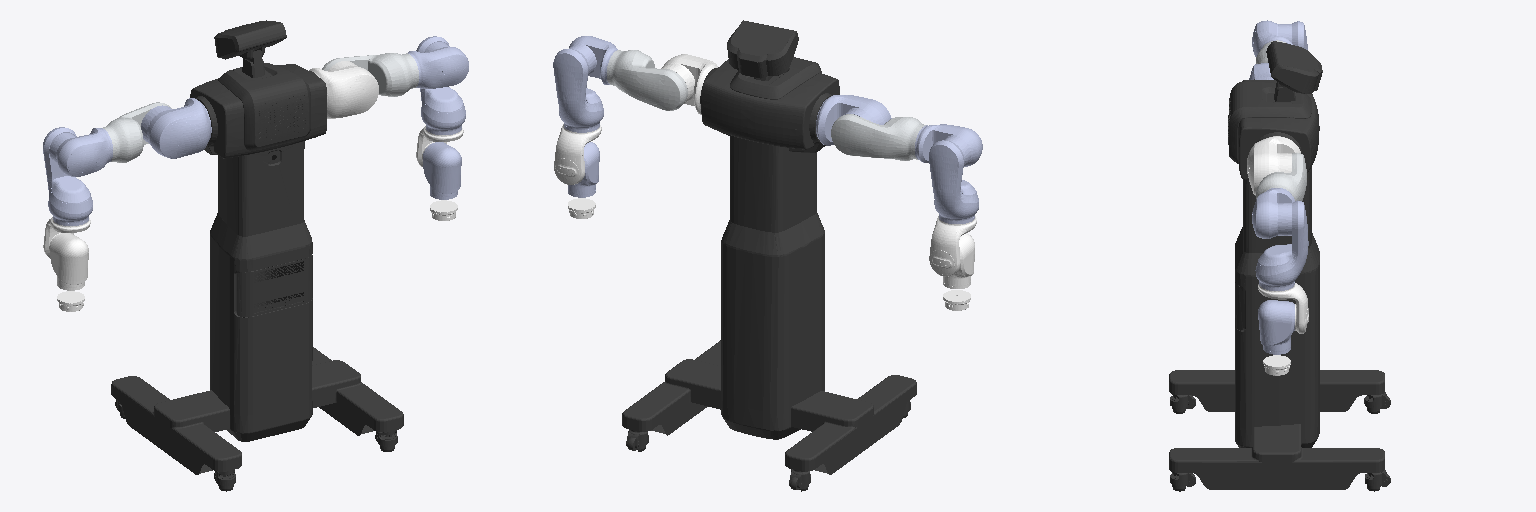
robot.urdf — dscr5_6:
<?xml version="1.0" encoding="utf-8"?>
<!-- This URDF was automatically created by SolidWorks to URDF Exporter! Originally created by [author] ([email redacted]) 
     Commit Version: 1.6.0-1-g15f4949  Build Version: 1.6.7594.29634
     For more information, please see http://wiki.ros.org/sw_urdf_exporter -->
<robot
  name="dscr5_6">
  <link
    name="base_link">
    <inertial>
      <origin
        xyz="-2.33471583537977E-06 -0.00662907239788245 1.33004670421342"
        rpy="0 0 0" />
      <mass
        value="25.8577669048994" />
      <inertia
        ixx="0.267014137924139"
        ixy="-1.36584455425003E-05"
        ixz="-4.2469044271823E-07"
        iyy="0.472244407235779"
        iyz="-5.34065558451017E-05"
        izz="0.549554614712028" />
    </inertial>
    <visual>
      <origin
        xyz="0 0 0"
        rpy="0 0 0" />
      <geometry>
        <mesh
          filename="package://Dsc5/meshes/base_link.STL" />
      </geometry>
      <material
        name="">
        <color
          rgba="0.298039215686275 0.298039215686275 0.298039215686275 1" />
      </material>
    </visual>
    <collision>
      <origin
        xyz="0 0 0"
        rpy="0 0 0" />
      <geometry>
        <mesh
          filename="package://Dsc5/meshes/base_link.STL" />
      </geometry>
    </collision>
  </link>
  <link
    name="rlink1">
    <inertial>
      <origin
        xyz="-3.48537472660837E-07 -0.0233818482234878 -0.0427896937411072"
        rpy="0 0 0" />
      <mass
        value="4.9503936266377" />
      <inertia
        ixx="0.0280328872192691"
        ixy="-1.0942187488335E-08"
        ixz="8.01870940106082E-08"
        iyy="0.0290016533494644"
        iyz="0.00182600668247838"
        izz="0.0175058159650953" />
    </inertial>
    <visual>
      <origin
        xyz="0 0 0"
        rpy="0 0 0" />
      <geometry>
        <mesh
          filename="package://Dsc5/meshes/rlink1.STL" />
      </geometry>
      <material
        name="">
        <color
          rgba="1 1 1 1" />
      </material>
    </visual>
    <collision>
      <origin
        xyz="0 0 0"
        rpy="0 0 0" />
      <geometry>
        <mesh
          filename="package://Dsc5/meshes/rlink1.STL" />
      </geometry>
    </collision>
  </link>
  <joint
    name="rjoint1"
    type="revolute">
    <origin
      xyz="0.385 0 1.33"
      rpy="0 1.5708 0" />
    <parent
      link="base_link" />
    <child
      link="rlink1" />
    <axis
      xyz="0 0 1" />
    <limit
      lower="-3.14"
      upper="3.14"
      effort="60"
      velocity="2.088" />
  </joint>
  <link
    name="rlink2">
    <inertial>
      <origin
        xyz="8.53027319225319E-07 -0.132185395312596 -0.0316164146761528"
        rpy="0 0 0" />
      <mass
        value="3.79795466425453" />
      <inertia
        ixx="0.0345043951838881"
        ixy="-6.83453568770041E-07"
        ixz="3.61629286229262E-08"
        iyy="0.0138915011944337"
        iyz="0.00967376859925764"
        izz="0.0312407355826189" />
    </inertial>
    <visual>
      <origin
        xyz="0 0 0"
        rpy="0 0 0" />
      <geometry>
        <mesh
          filename="package://Dsc5/meshes/rlink2.STL" />
      </geometry>
      <material
        name="">
        <color
          rgba="0.898039215686275 0.913725490196078 0.925490196078431 1" />
      </material>
    </visual>
    <collision>
      <origin
        xyz="0 0 0"
        rpy="0 0 0" />
      <geometry>
        <mesh
          filename="package://Dsc5/meshes/rlink2.STL" />
      </geometry>
    </collision>
  </link>
  <joint
    name="rjoint2"
    type="revolute">
    <origin
      xyz="0 0 0"
      rpy="-1.5708 0 3.1416" />
    <parent
      link="rlink1" />
    <child
      link="rlink2" />
    <axis
      xyz="0 0 1" />
    <limit
      lower="-1.827"
      upper="1.827"
      effort="60"
      velocity="2.088" />
  </joint>
  <link
    name="rlink3">
    <inertial>
      <origin
        xyz="-8.01697919161626E-07 -0.0193078273568117 -0.0351761512008308"
        rpy="0 0 0" />
      <mass
        value="2.90590329386609" />
      <inertia
        ixx="0.012506710918385"
        ixy="-3.18829086332697E-08"
        ixz="1.61628680644383E-07"
        iyy="0.0126795925744411"
        iyz="0.000667419670602496"
        izz="0.00682395851939506" />
    </inertial>
    <visual>
      <origin
        xyz="0 0 0"
        rpy="0 0 0" />
      <geometry>
        <mesh
          filename="package://Dsc5/meshes/rlink3.STL" />
      </geometry>
      <material
        name="">
        <color
          rgba="0.792156862745098 0.819607843137255 0.933333333333333 1" />
      </material>
    </visual>
    <collision>
      <origin
        xyz="0 0 0"
        rpy="0 0 0" />
      <geometry>
        <mesh
          filename="package://Dsc5/meshes/rlink3.STL" />
      </geometry>
    </collision>
  </link>
  <joint
    name="rjoint3"
    type="revolute">
    <origin
      xyz="0 -0.4 0"
      rpy="-1.5708 0 3.1416" />
    <parent
      link="rlink2" />
    <child
      link="rlink3" />
    <axis
      xyz="0 0 1" />
    <limit
      lower="-3.14"
      upper="3.14"
      effort="60"
      velocity="3.14" />
  </joint>
  <link
    name="rlink4">
    <inertial>
      <origin
        xyz="-0.144257090671159 -9.85621058857689E-06 -0.0330829693859012"
        rpy="0 0 0" />
      <mass
        value="3.62743871363849" />
      <inertia
        ixx="0.0129758721943285"
        ixy="-2.58330084453541E-06"
        ixz="0.0089132335031844"
        iyy="0.0321838755377905"
        iyz="2.55052560667335E-08"
        izz="0.0283162014026305" />
    </inertial>
    <visual>
      <origin
        xyz="0 0 0"
        rpy="0 0 0" />
      <geometry>
        <mesh
          filename="package://Dsc5/meshes/rlink4.STL" />
      </geometry>
      <material
        name="">
        <color
          rgba="0.792156862745098 0.819607843137255 0.933333333333333 1" />
      </material>
    </visual>
    <collision>
      <origin
        xyz="0 0 0"
        rpy="0 0 0" />
      <geometry>
        <mesh
          filename="package://Dsc5/meshes/rlink4.STL" />
      </geometry>
    </collision>
  </link>
  <joint
    name="rjoint4"
    type="revolute">
    <origin
      xyz="0 0 0"
      rpy="-1.5708 0 3.1416" />
    <parent
      link="rlink3" />
    <child
      link="rlink4" />
    <axis
      xyz="0 0 -1" />
    <limit
      lower="-1.8"
      upper="1.8"
      effort="60"
      velocity="1.57" />
  </joint>
  <link
    name="rlink5">
    <inertial>
      <origin
        xyz="5.73325782216028E-06 0.0539256625097546 -0.0673965611550317"
        rpy="0 0 0" />
      <mass
        value="1.22777453272549" />
      <inertia
        ixx="0.00671987251306287"
        ixy="-1.7302687479737E-07"
        ixz="-4.00366572180475E-07"
        iyy="0.00522041312928112"
        iyz="-0.0023320996856893"
        izz="0.00406763138318156" />
    </inertial>
    <visual>
      <origin
        xyz="0 0 0"
        rpy="0 0 0" />
      <geometry>
        <mesh
          filename="package://Dsc5/meshes/rlink5.STL" />
      </geometry>
      <material
        name="">
        <color
          rgba="1 1 1 1" />
      </material>
    </visual>
    <collision>
      <origin
        xyz="0 0 0"
        rpy="0 0 0" />
      <geometry>
        <mesh
          filename="package://Dsc5/meshes/rlink5.STL" />
      </geometry>
    </collision>
  </link>
  <joint
    name="rjoint5"
    type="revolute">
    <origin
      xyz="-0.4 0 0"
      rpy="-1.5708 0 1.5708" />
    <parent
      link="rlink4" />
    <child
      link="rlink5" />
    <axis
      xyz="0 0 -1" />
    <limit
      lower="-3.14"
      upper="3.14"
      effort="60"
      velocity="3.14" />
  </joint>
  <link
    name="rlink6">
    <inertial>
      <origin
        xyz="-3.6069089082158E-07 -0.0302648113567473 -0.000654424356794522"
        rpy="0 0 0" />
      <mass
        value="2.18349168254272" />
      <inertia
        ixx="0.0071110582460742"
        ixy="-1.28155589668657E-08"
        ixz="2.0793851567459E-08"
        iyy="0.00436647605709646"
        iyz="0.000217056908270871"
        izz="0.00649083623519741" />
    </inertial>
    <visual>
      <origin
        xyz="0 0 0"
        rpy="0 0 0" />
      <geometry>
        <mesh
          filename="package://Dsc5/meshes/rlink6.STL" />
      </geometry>
      <material
        name="">
        <color
          rgba="0.792156862745098 0.819607843137255 0.933333333333333 1" />
      </material>
    </visual>
    <collision>
      <origin
        xyz="0 0 0"
        rpy="0 0 0" />
      <geometry>
        <mesh
          filename="package://Dsc5/meshes/rlink6.STL" />
      </geometry>
    </collision>
  </link>
  <joint
    name="rjoint6"
    type="revolute">
    <origin
      xyz="0 0 0"
      rpy="-1.5708 0 -3.1416" />
    <parent
      link="rlink5" />
    <child
      link="rlink6" />
    <axis
      xyz="0 0 1" />
    <limit
      lower="-1.914"
      upper="1.914"
      effort="60"
      velocity="3.14" />
  </joint>
  <link
    name="rlink7">
    <inertial>
      <origin
        xyz="-1.6115772992098E-05 -0.000141462244165972 -0.031877389713026"
        rpy="0 0 0" />
      <mass
        value="0.289031984022191" />
      <inertia
        ixx="0.000202802134225507"
        ixy="2.0837505013452E-10"
        ixz="1.07324494570627E-07"
        iyy="0.000203587280513312"
        iyz="1.58994797887414E-07"
        izz="0.000316585846451796" />
    </inertial>
    <visual>
      <origin
        xyz="0 0 -0.12"
        rpy="0 0 0" />
      <geometry>
        <mesh
          filename="package://Dsc5/meshes/rlink7.STL" />
      </geometry>
      <material
        name="">
        <color
          rgba="1 1 1 1" />
      </material>
    </visual>
    <collision>
      <origin
        xyz="0 0 0"
        rpy="0 0 0" />
      <geometry>
        <mesh
          filename="package://Dsc5/meshes/rlink7.STL" />
      </geometry>
    </collision>
  </link>
  <joint
    name="rjoint7"
    type="revolute">
    <origin
      xyz="0 -0.35 0"
      rpy="1.5708 0 0" />
    <parent
      link="rlink6" />
    <child
      link="rlink7" />
    <axis
      xyz="0 0 -1" />
    <limit
      lower="-3.14"
      upper="3.14"
      effort="60"
      velocity="3.14" />
  </joint>
  <link
    name="llink1">
    <inertial>
      <origin
        xyz="-3.48534555216773E-07 -0.0233818482203476 -0.0427896937411069"
        rpy="0 0 0" />
      <mass
        value="4.95039362663772" />
      <inertia
        ixx="0.0280328872192692"
        ixy="-1.09421874361309E-08"
        ixz="8.0187093968398E-08"
        iyy="0.0290016533494645"
        iyz="0.00182600668247842"
        izz="0.0175058159650954" />
    </inertial>
    <visual>
      <origin
        xyz="0 0 0"
        rpy="0 0 0" />
      <geometry>
        <mesh
          filename="package://Dsc5/meshes/llink1.STL" />
      </geometry>
      <material
        name="">
        <color
          rgba="0.792156862745098 0.819607843137255 0.933333333333333 1" />
      </material>
    </visual>
    <collision>
      <origin
        xyz="0 0 0"
        rpy="0 0 0" />
      <geometry>
        <mesh
          filename="package://Dsc5/meshes/llink1.STL" />
      </geometry>
    </collision>
  </link>
  <joint
    name="ljoint1"
    type="revolute">
    <origin
      xyz="-0.385 0 1.33"
      rpy="0 -1.5708 0" />
    <parent
      link="base_link" />
    <child
      link="llink1" />
    <axis
      xyz="0 0 -1" />
    <limit
      lower="-3.14"
      upper="3.14"
      effort="60"
      velocity="2.088" />
  </joint>
  <link
    name="llink2">
    <inertial>
      <origin
        xyz="8.57088727768129E-07 -0.13218539479818 -0.0316164152507732"
        rpy="0 0 0" />
      <mass
        value="3.79795439943558" />
      <inertia
        ixx="0.0345043950633951"
        ixy="-6.831545078089E-07"
        ixz="3.59263239475119E-08"
        iyy="0.0138915001045365"
        iyz="0.00967376854022875"
        izz="0.0312407342738061" />
    </inertial>
    <visual>
      <origin
        xyz="0 0 0"
        rpy="0 0 0" />
      <geometry>
        <mesh
          filename="package://Dsc5/meshes/llink2.STL" />
      </geometry>
      <material
        name="">
        <color
          rgba="0.898039215686275 0.913725490196078 0.925490196078431 1" />
      </material>
    </visual>
    <collision>
      <origin
        xyz="0 0 0"
        rpy="0 0 0" />
      <geometry>
        <mesh
          filename="package://Dsc5/meshes/llink2.STL" />
      </geometry>
    </collision>
  </link>
  <joint
    name="ljoint2"
    type="revolute">
    <origin
      xyz="0 0 0"
      rpy="-1.57 0 3.14" />
    <parent
      link="llink1" />
    <child
      link="llink2" />
    <axis
      xyz="0 0 1" />
    <limit
      lower="-1.827"
      upper="1.827"
      effort="60"
      velocity="2.088" />
  </joint>
  <link
    name="llink3">
    <inertial>
      <origin
        xyz="-8.01697918939581E-07 -0.0193078273536719 -0.035176151200831"
        rpy="0 0 0" />
      <mass
        value="2.90590329386612" />
      <inertia
        ixx="0.0125067109183852"
        ixy="-3.18829086345302E-08"
        ixz="1.61628680721092E-07"
        iyy="0.0126795925744412"
        iyz="0.000667419670602472"
        izz="0.00682395851939513" />
    </inertial>
    <visual>
      <origin
        xyz="0 0 0"
        rpy="0 0 0" />
      <geometry>
        <mesh
          filename="package://Dsc5/meshes/llink3.STL" />
      </geometry>
      <material
        name="">
        <color
          rgba="0.792156862745098 0.819607843137255 0.933333333333333 1" />
      </material>
    </visual>
    <collision>
      <origin
        xyz="0 0 0"
        rpy="0 0 0" />
      <geometry>
        <mesh
          filename="package://Dsc5/meshes/llink3.STL" />
      </geometry>
    </collision>
  </link>
  <joint
    name="ljoint3"
    type="revolute">
    <origin
      xyz="0 -0.4 0"
      rpy="-1.5708 0 3.1416" />
    <parent
      link="llink2" />
    <child
      link="llink3" />
    <axis
      xyz="0 0 -1" />
    <limit
      lower="-3.14"
      upper="3.14"
      effort="60"
      velocity="3.14" />
  </joint>
  <link
    name="llink4">
    <inertial>
      <origin
        xyz="-0.144257090671159 -9.85621058846586E-06 -0.0330829693890409"
        rpy="0 0 0" />
      <mass
        value="3.6274387136385" />
      <inertia
        ixx="0.0129758721958824"
        ixy="-2.58329914905676E-06"
        ixz="0.0089132335030002"
        iyy="0.0321838755383158"
        iyz="2.55050844185509E-08"
        izz="0.028316201404925" />
    </inertial>
    <visual>
      <origin
        xyz="0 0 0"
        rpy="0 0 3.1416" />
      <geometry>
        <mesh
          filename="package://Dsc5/meshes/llink4.STL" />
      </geometry>
      <material
        name="">
        <color
          rgba="0.792156862745098 0.819607843137255 0.933333333333333 1" />
      </material>
    </visual>
    <collision>
      <origin
        xyz="0 0 0"
        rpy="0 0 0" />
      <geometry>
        <mesh
          filename="package://Dsc5/meshes/llink4.STL" />
      </geometry>
    </collision>
  </link>
  <joint
    name="ljoint4"
    type="revolute">
    <origin
      xyz="0 0 0"
      rpy="-1.5708 0 3.1416" />
    <parent
      link="llink3" />
    <child
      link="llink4" />
    <axis
      xyz="0 0 -1" />
    <limit
      lower="-2"
      upper="2"
      effort="60"
      velocity="3.14" />
  </joint>
  <link
    name="llink5">
    <inertial>
      <origin
        xyz="5.73532288883349E-06 0.0539158105053979 -0.0673965526908485"
        rpy="0 0 0" />
      <mass
        value="1.22777421461757" />
      <inertia
        ixx="0.00671987162846365"
        ixy="-1.73133868954839E-07"
        ixz="-4.00335180443063E-07"
        iyy="0.00522041225072359"
        iyz="-0.00233209954708952"
        izz="0.00406763025471862" />
    </inertial>
    <visual>
      <origin
        xyz="0 0 0"
        rpy="0 0 0" />
      <geometry>
        <mesh
          filename="package://Dsc5/meshes/llink5.STL" />
      </geometry>
      <material
        name="">
        <color
          rgba="1 1 1 1" />
      </material>
    </visual>
    <collision>
      <origin
        xyz="0 0 0"
        rpy="0 0 0" />
      <geometry>
        <mesh
          filename="package://Dsc5/meshes/llink5.STL" />
      </geometry>
    </collision>
  </link>
  <joint
    name="ljoint5"
    type="revolute">
    <origin
      xyz="0.4 0 0"
      rpy="-1.5708 0 -1.5708" />
    <parent
      link="llink4" />
    <child
      link="llink5" />
    <axis
      xyz="0 0 1" />
    <limit
      lower="-3.14"
      upper="3.14"
      effort="60"
      velocity="3.14" />
  </joint>
  <link
    name="llink6">
    <inertial>
      <origin
        xyz="-3.60690891154647E-07 -0.0302648113567476 -0.000644568673573308"
        rpy="0 0 0" />
      <mass
        value="2.1834916825427" />
      <inertia
        ixx="0.00711105824607415"
        ixy="-1.28155589872999E-08"
        ixz="2.07938515571978E-08"
        iyy="0.00436647605709643"
        iyz="0.00021705690827092"
        izz="0.00649083623519734" />
    </inertial>
    <visual>
      <origin
        xyz="0 0 0"
        rpy="0 0 0" />
      <geometry>
        <mesh
          filename="package://Dsc5/meshes/llink6.STL" />
      </geometry>
      <material
        name="">
        <color
          rgba="1 1 1 1" />
      </material>
    </visual>
    <collision>
      <origin
        xyz="0 0 0"
        rpy="0 0 0" />
      <geometry>
        <mesh
          filename="package://Dsc5/meshes/llink6.STL" />
      </geometry>
    </collision>
  </link>
  <joint
    name="ljoint6"
    type="revolute">
    <origin
      xyz="0 0 0"
      rpy="-1.5708 0 3.1416" />
    <parent
      link="llink5" />
    <child
      link="llink6" />
    <axis
      xyz="0 0 1" />
    <limit
      lower="-1.914"
      upper="1.914"
      effort="60"
      velocity="3.14" />
  </joint>
  <link
    name="llink7">
    <inertial>
      <origin
        xyz="1.611577299232E-05 0.000131606557804023 -0.031877389713026"
        rpy="0 0 0" />
      <mass
        value="0.289031984022191" />
      <inertia
        ixx="0.000202802134225507"
        ixy="2.08375050252559E-10"
        ixz="-1.07324494570795E-07"
        iyy="0.000203587280513312"
        iyz="-1.58994797887464E-07"
        izz="0.000316585846451796" />
    </inertial>
    <visual>
      <origin
        xyz="0 0 -0.12"
        rpy="0 0 0" />
      <geometry>
        <mesh
          filename="package://Dsc5/meshes/llink7.STL" />
      </geometry>
      <material
        name="">
        <color
          rgba="1 1 1 1" />
      </material>
    </visual>
    <collision>
      <origin
        xyz="0 0 0"
        rpy="0 0 0" />
      <geometry>
        <mesh
          filename="package://Dsc5/meshes/llink7.STL" />
      </geometry>
    </collision>
  </link>
  <joint
    name="ljoint7"
    type="revolute">
    <origin
      xyz="0 -0.35 0"
      rpy="1.5708 0 0" />
    <parent
      link="llink6" />
    <child
      link="llink7" />
    <axis
      xyz="0 0 -1" />
    <limit
      lower="-3.14"
      upper="3.14"
      effort="60"
      velocity="3.14" />
  </joint>
</robot>

--- Render facts (derived) ---
The picture shows the robot from 3 angles, left to right: view 1: azimuth 30°, elevation 25°; view 2: azimuth 150°, elevation 25°; view 3: azimuth 270°, elevation 25°; orthographic projection.
Model dscr5_6 with 15 links and 14 joints (14 revolute), rooted at base_link, posed all joints at 0.
Visible links, largest first — view 1: base_link, llink1, rlink1, llink4, llink3, rlink2, rlink4, rlink3, rlink6, llink6, llink2, rlink5 (+1 smaller); view 2: base_link, llink2, rlink2, rlink4, llink4, llink1, llink3, llink5, rlink5, rlink1, rlink3, rlink6 (+1 smaller); view 3: base_link, rlink4, rlink3, rlink1, rlink6, rlink2, rlink5, llink3.
Link boxes in pixels (x1,y1,x2,y2): base_link: (111, 20, 403, 491); llink1: (141, 98, 211, 158); rlink1: (309, 61, 378, 118); llink4: (43, 127, 92, 225); llink3: (49, 128, 112, 176); rlink2: (322, 53, 418, 96); rlink4: (416, 36, 465, 134); rlink3: (408, 42, 468, 88); rlink6: (423, 142, 461, 199); llink6: (50, 233, 88, 290); llink2: (103, 102, 171, 162); rlink5: (416, 126, 463, 166); base_link: (622, 20, 916, 491); llink2: (831, 114, 925, 160); rlink2: (607, 50, 687, 110); rlink4: (553, 49, 603, 132); llink4: (929, 140, 978, 223); llink1: (816, 95, 891, 145); llink3: (915, 124, 982, 166); llink5: (929, 216, 976, 276); rlink5: (554, 124, 601, 184); rlink1: (661, 54, 717, 114); rlink3: (569, 36, 617, 84); rlink6: (568, 142, 599, 197); base_link: (1169, 41, 1390, 491); rlink4: (1255, 200, 1308, 290); rlink3: (1252, 188, 1294, 238); rlink1: (1247, 136, 1300, 194); rlink6: (1258, 300, 1294, 354); rlink2: (1255, 153, 1306, 200); rlink5: (1258, 283, 1308, 333); llink3: (1252, 20, 1292, 56).
Bounding box of the posed robot: 1.73 × 0.8215 × 1.62 m (x, y, z).
Meshes: 15 distinct files referenced, 15 mesh visuals loaded (15 binary STL).